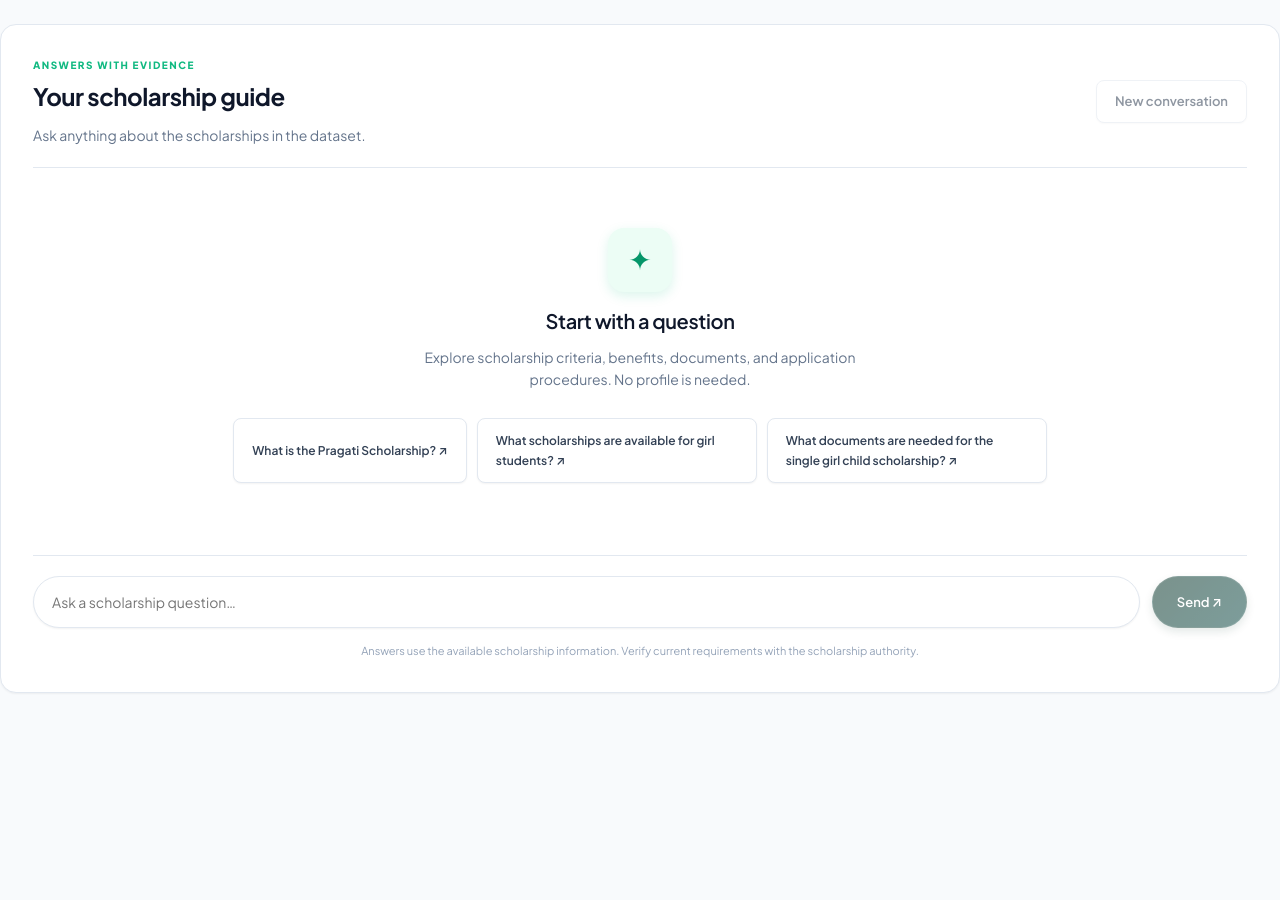
it: sources and immediate assistant access › shows provider failures clearly instead of fake AI excerpts
Type "Pragati?" into the field labelled "Ask a scholarship question".
click(586, 602); type("Pragati?")  # box [33, 576, 1140, 628]
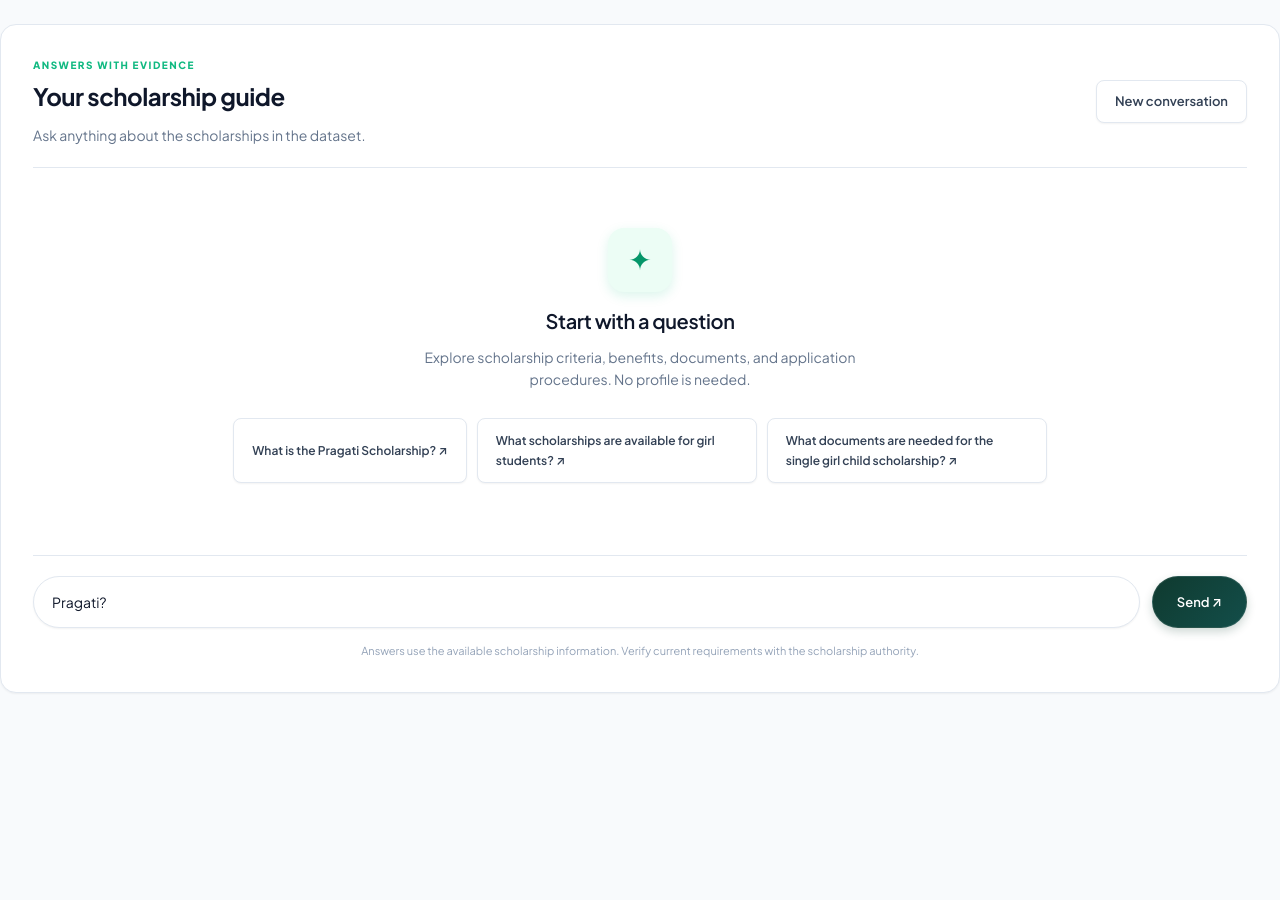
Expected: the button "Send ↗" is enabled
Click the button "Send ↗".
click(1199, 602)  # box [1152, 576, 1247, 628]
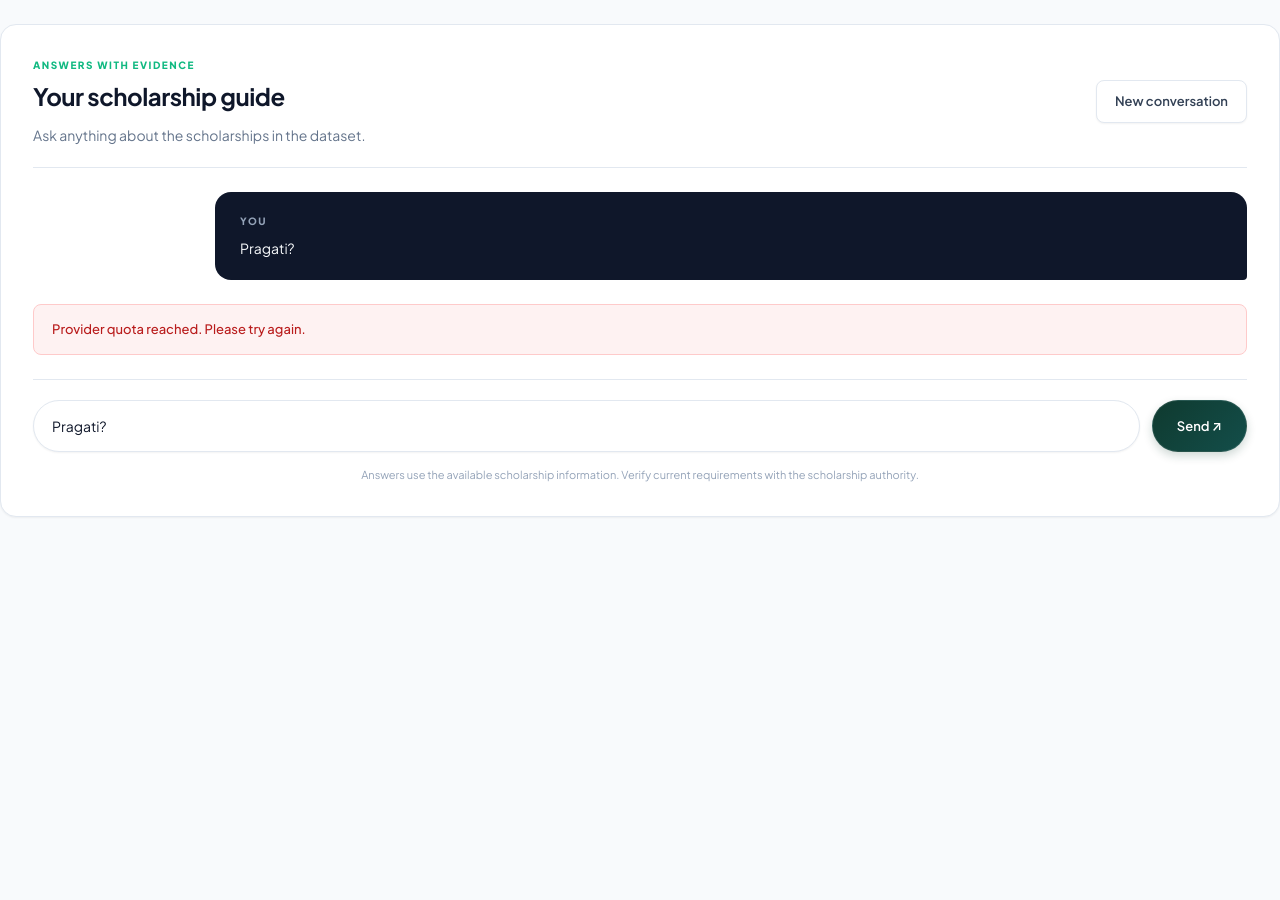
Expected: the message shows "Provider quota reached", [52, 321, 306, 337]
